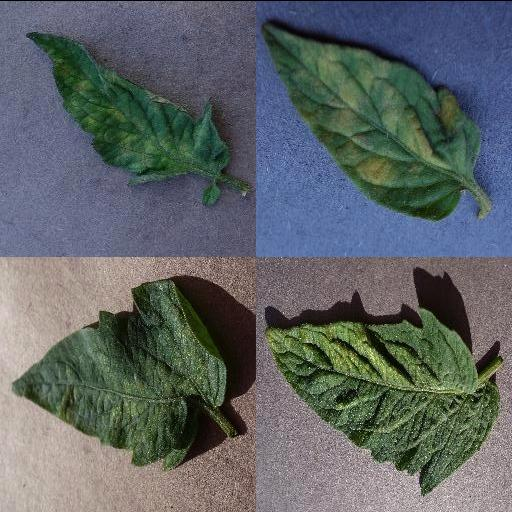Leaf Mold: (261, 22, 485, 220), (23, 31, 231, 187)
Spider Mites: (262, 307, 500, 493), (10, 278, 228, 472)
